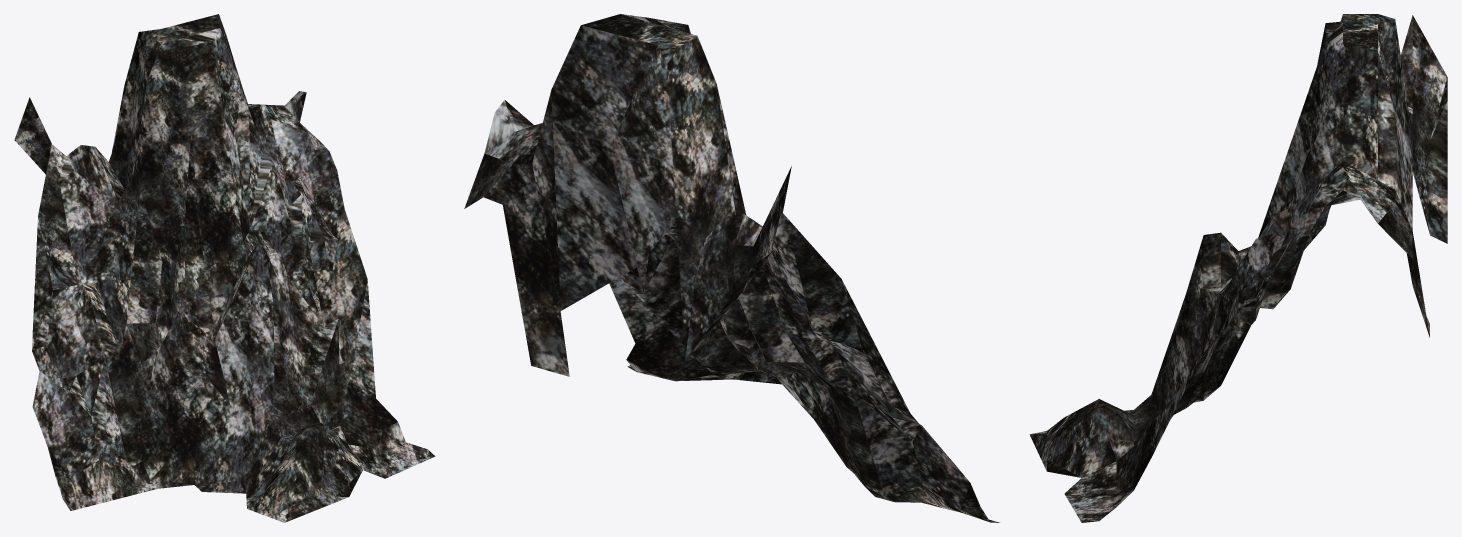
The model's file is OVERHILL_A_01_OBJECT16.fbx.
3 renders of one model, left to right at view 1: azimuth 30°, elevation 25°; view 2: azimuth 150°, elevation 25°; view 3: azimuth 270°, elevation 25°, orthographic. The views are drawn at different scales.
Parts seen in each view (by area): view 1: OVERHILL_A_01_OBJECT16; view 2: OVERHILL_A_01_OBJECT16; view 3: OVERHILL_A_01_OBJECT16.
Part boxes in pixels (box(x1,y1,x2,y2)): OVERHILL_A_01_OBJECT16: box(14, 14, 435, 522); OVERHILL_A_01_OBJECT16: box(464, 14, 999, 522); OVERHILL_A_01_OBJECT16: box(1029, 14, 1447, 522).
Size of the model in its own units: 301387 by 342959 by 299166.
1 material, 1 textured.
